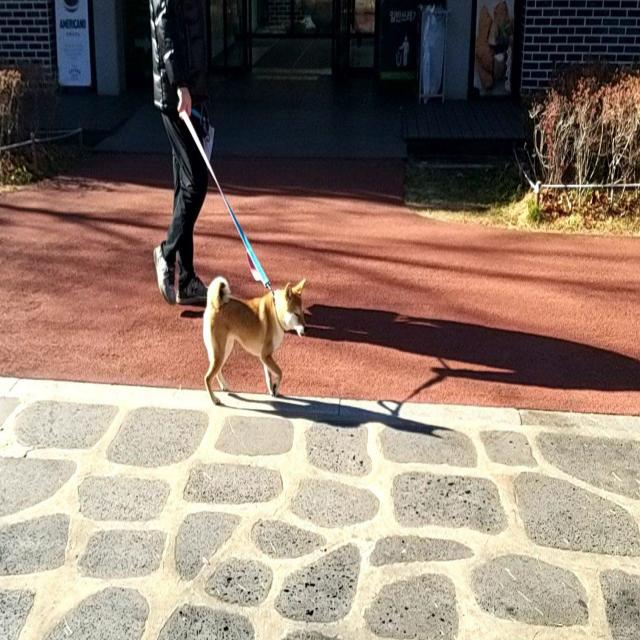Leashed_Dog: (171, 73, 307, 405)
